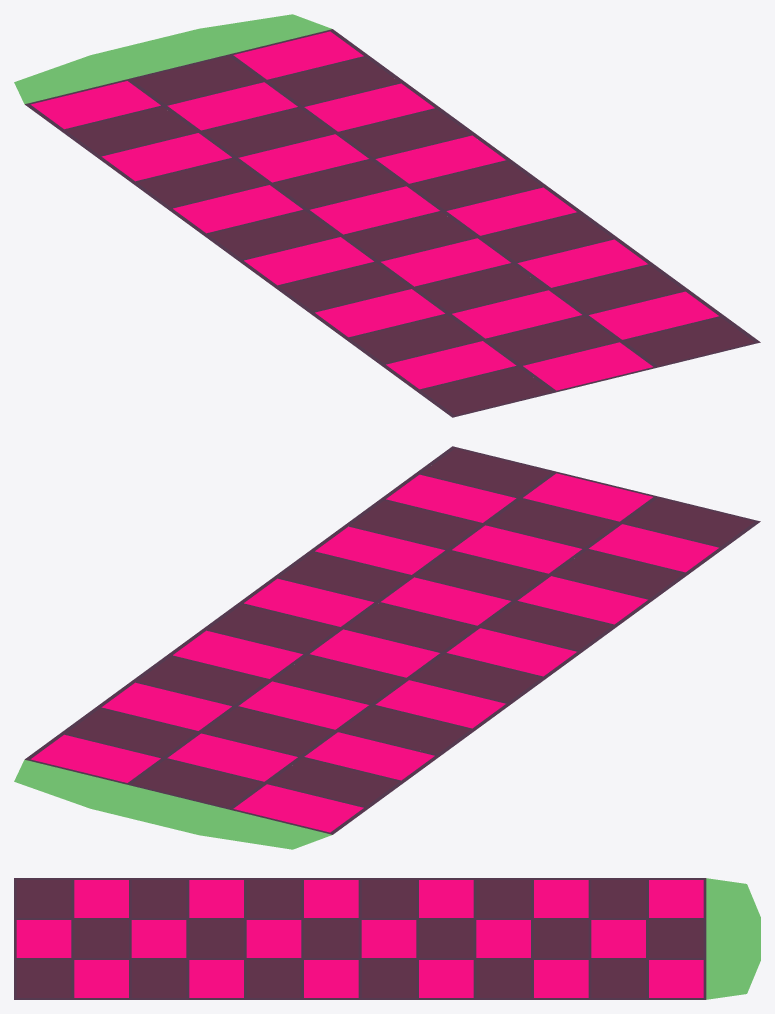
File: tabla_no_bets.glb
3 views of the same model, one above another, from view 1: azimuth 30°, elevation 25°; view 2: azimuth 150°, elevation 25°; view 3: azimuth 270°, elevation 25° (orthographic). The views are drawn at different scales.
Parts seen in each view (by area): view 1: ContornoTabla.001, 0.001, 3.001, 18.001, 20.001, 8.001, 14.001, 24.001, 31.001, 35.001, 2.001, 10.001 (+26 smaller); view 2: ContornoTabla.001, 0.001, 1.001, 16.001, 20.001, 8.001, 14.001, 22.001, 29.001, 33.001, 35.001, 2.001 (+26 smaller); view 3: ContornoTabla.001, 0.001, 16.001, 17.001, 18.001, 22.001, 23.001, 24.001, 28.001, 29.001, 30.001, 34.001 (+26 smaller).
Boxes of the visible parts, left/top/right/bottom form: ContornoTabla.001: left=25, top=29, right=760, bottom=417; 0.001: left=14, top=14, right=331, bottom=104; 3.001: left=233, top=31, right=363, bottom=79; 18.001: left=411, top=161, right=541, bottom=209; 20.001: left=345, top=212, right=475, bottom=260; 8.001: left=203, top=108, right=333, bottom=156; 14.001: left=274, top=160, right=404, bottom=208; 24.001: left=482, top=213, right=612, bottom=261; 31.001: left=386, top=341, right=516, bottom=389; 35.001: left=523, top=342, right=652, bottom=390; 2.001: left=132, top=56, right=262, bottom=104; 10.001: left=137, top=159, right=267, bottom=207; ContornoTabla.001: left=25, top=446, right=760, bottom=834; 0.001: left=14, top=759, right=331, bottom=849; 1.001: left=233, top=784, right=363, bottom=832; 16.001: left=411, top=654, right=541, bottom=702; 20.001: left=345, top=603, right=475, bottom=651; 8.001: left=203, top=707, right=333, bottom=755; 14.001: left=274, top=655, right=404, bottom=703; 22.001: left=482, top=602, right=612, bottom=650; 29.001: left=452, top=525, right=581, bottom=573; 33.001: left=386, top=474, right=516, bottom=522; 35.001: left=523, top=473, right=652, bottom=521; 2.001: left=132, top=759, right=262, bottom=807; ContornoTabla.001: left=14, top=878, right=706, bottom=999; 0.001: left=706, top=878, right=760, bottom=999; 16.001: left=361, top=880, right=416, bottom=917; 17.001: left=361, top=920, right=416, bottom=957; 18.001: left=361, top=960, right=416, bottom=997; 22.001: left=246, top=880, right=301, bottom=917; 23.001: left=246, top=920, right=301, bottom=957; 24.001: left=246, top=960, right=301, bottom=997; 28.001: left=131, top=880, right=186, bottom=917; 29.001: left=131, top=920, right=186, bottom=957; 30.001: left=131, top=960, right=186, bottom=997; 34.001: left=16, top=880, right=71, bottom=917.
Bounding box in the file's own units: 0.6766 × 0 × 1.75.
Materials: 1 (1 with a texture image).
